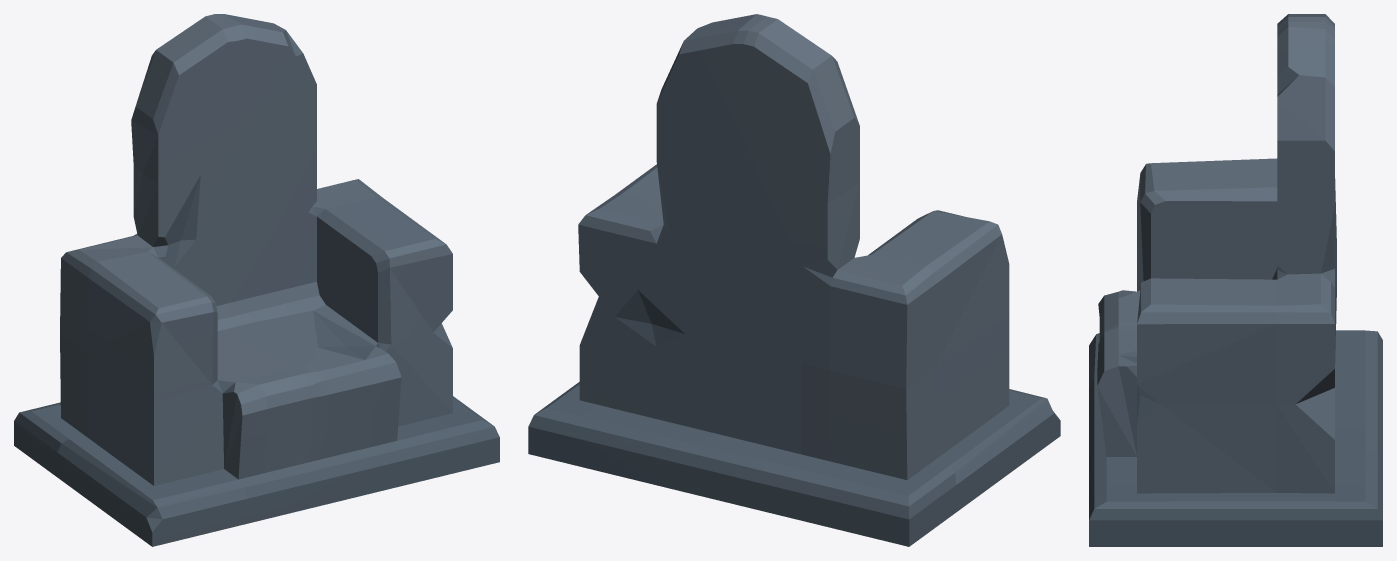
The model's file is Throne_A.fbx.
The picture shows the model from 3 angles, left to right: view 1: azimuth 30°, elevation 25°; view 2: azimuth 150°, elevation 25°; view 3: azimuth 270°, elevation 25°; orthographic projection. The views are drawn at different scales.
Visible parts, largest first — view 1: Throne_A; view 2: Throne_A; view 3: Throne_A.
Boxes of the visible parts, x1,y1,x2,y2 form: Throne_A: (14,14,499,546); Throne_A: (528,14,1060,546); Throne_A: (1089,14,1382,546).
Size of the model in its own units: 146 by 164 by 101.
